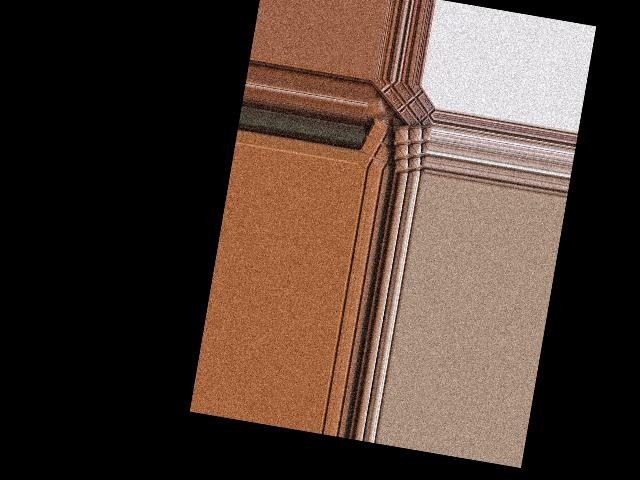chocolate: (360, 118, 407, 173)
